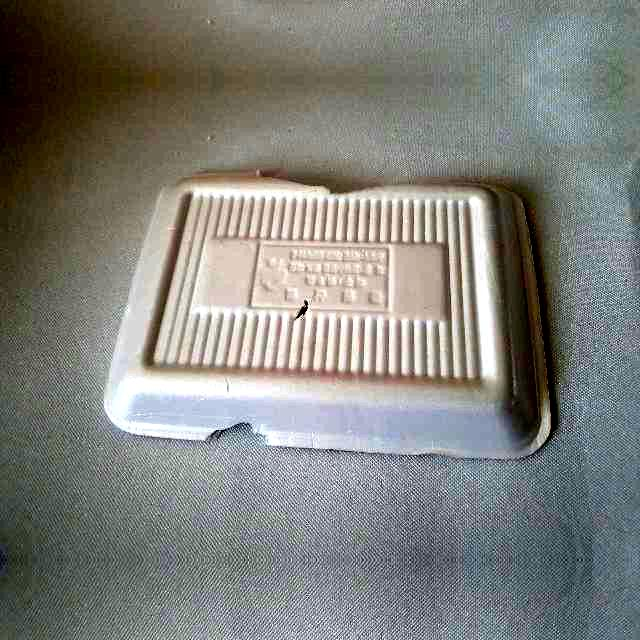Styrofoam: (103, 170, 552, 460), (104, 173, 552, 458)
